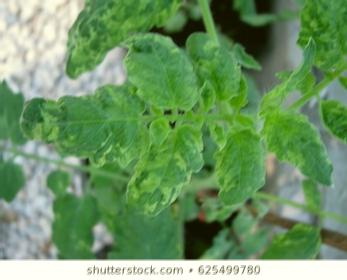Tomato leaf mosaic virus: (15, 82, 157, 168), (126, 120, 203, 218), (123, 29, 206, 116), (254, 105, 333, 188), (214, 126, 267, 218)
